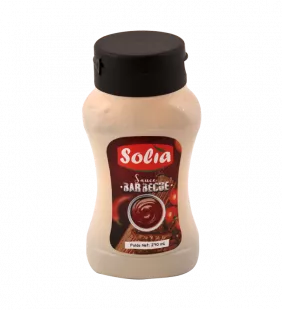SOLIA: (76, 20, 212, 284)
